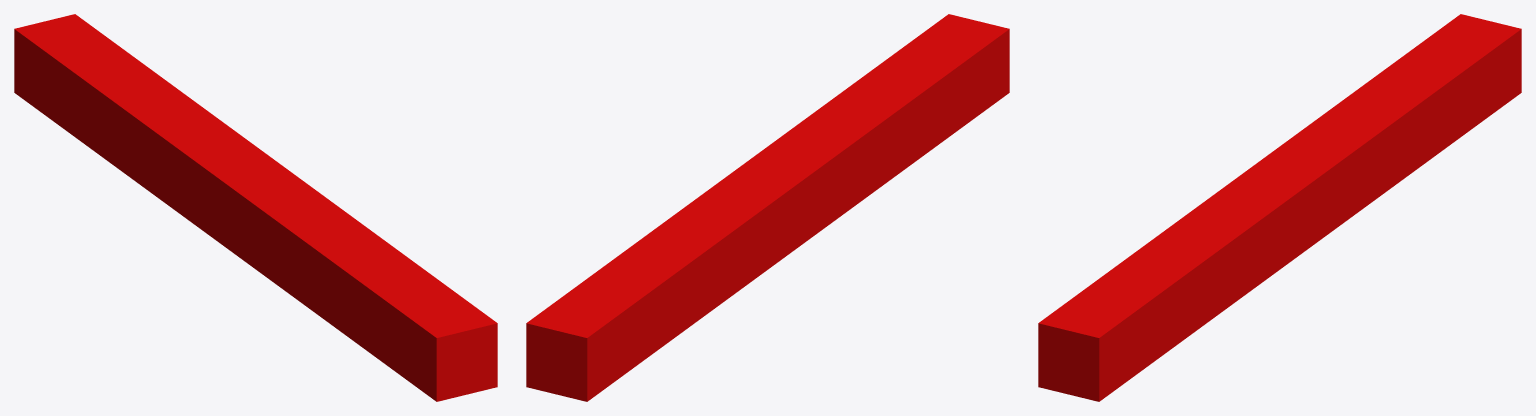
File: BlockBricks0x12.fbx
The picture shows the model from 3 angles, left to right: view 1: azimuth 30°, elevation 25°; view 2: azimuth 150°, elevation 25°; view 3: azimuth 330°, elevation 25°; orthographic projection.
Parts seen in each view (by area): view 1: ModelBricksx12; view 2: ModelBricksx12; view 3: ModelBricksx12.
Part boxes in pixels (<box>): ModelBricksx12: <box>14,14,497,401</box>; ModelBricksx12: <box>526,14,1009,401</box>; ModelBricksx12: <box>1038,14,1521,401</box>.
Bounding box in the file's own units: 1600 × 1600 × 19200.
